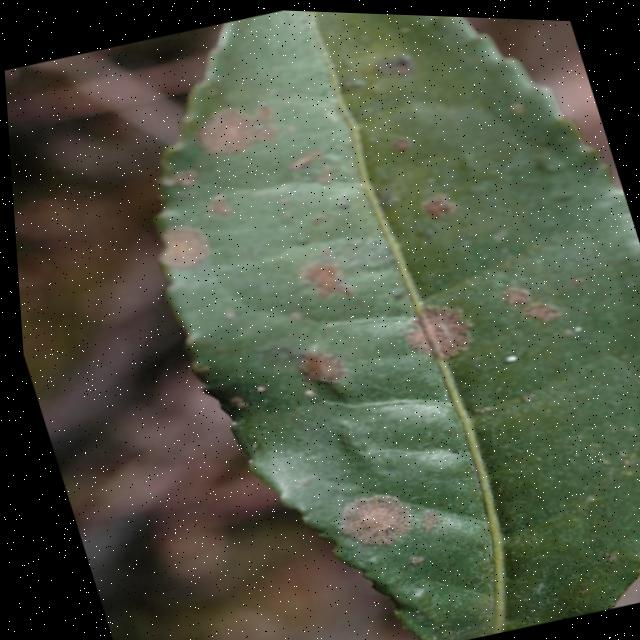Tea algae leaf spot: (53, 13, 621, 624)
